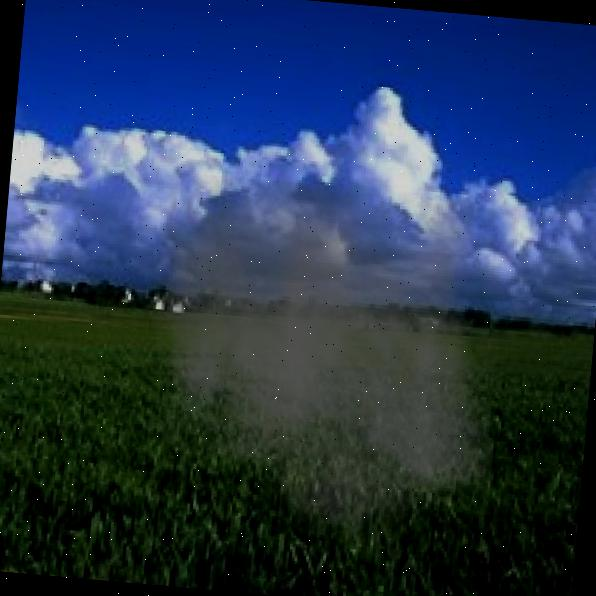smoke: (133, 171, 514, 565)
